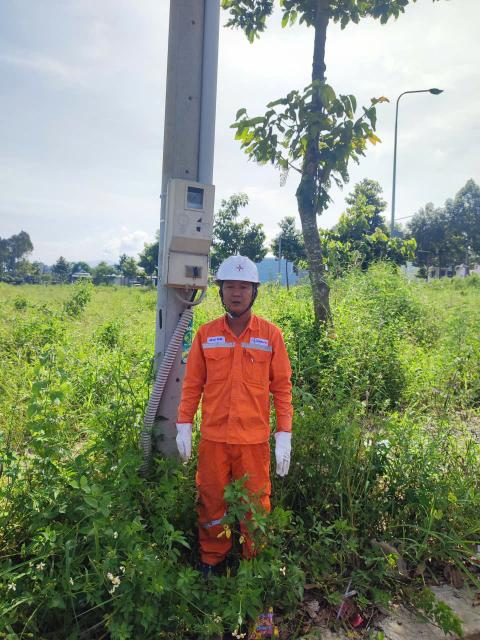gloves: (166, 420, 210, 462), (270, 428, 303, 478)
helmet: (203, 250, 275, 293)
